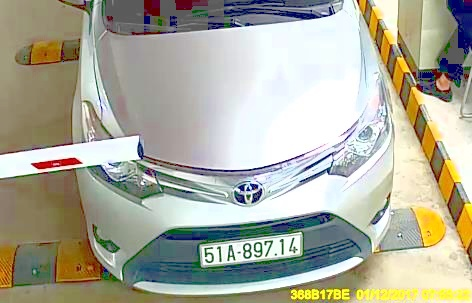plate: (197, 236, 302, 265)
